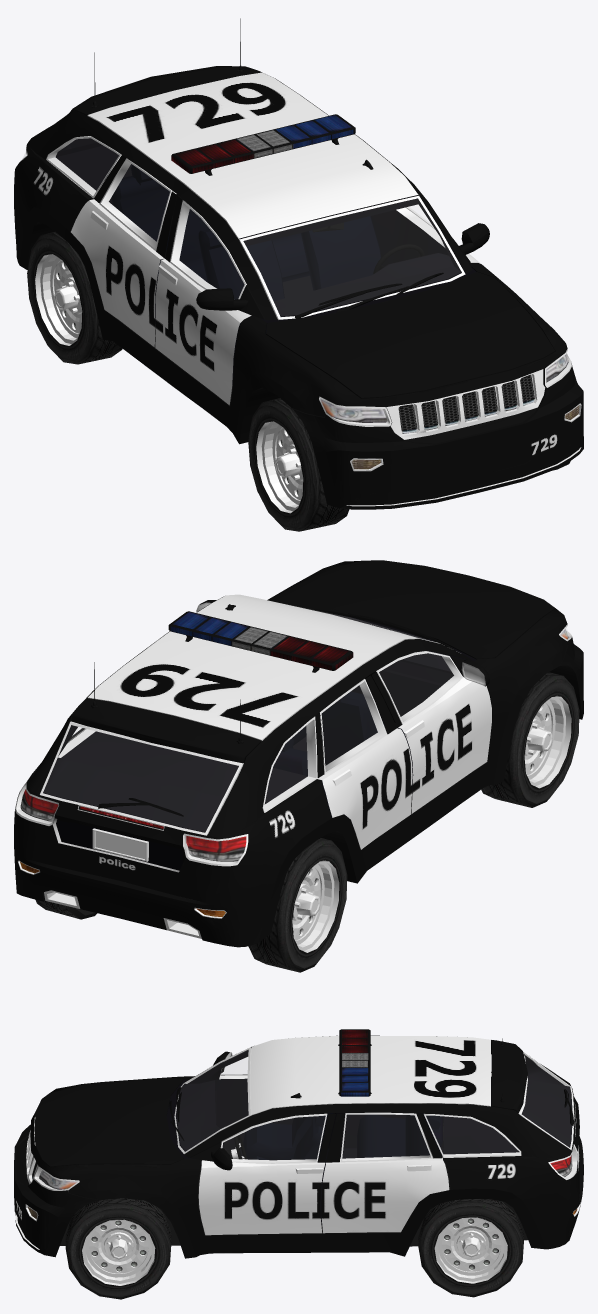
File: PoliceCar4.FBX
The picture shows the model from 3 angles, top to bottom: view 1: azimuth 30°, elevation 25°; view 2: azimuth 150°, elevation 25°; view 3: azimuth 270°, elevation 25°; orthographic projection. The views are drawn at different scales.
Parts seen in each view (by area): view 1: Body, FrontRight, BackRight; view 2: Body, BackRight, FrontRight, BackLeft; view 3: Body, FrontLeft, BackLeft.
Boxes of the visible parts, x1,y1,x2,y2 form: Body: (14, 18, 583, 509); FrontRight: (248, 398, 349, 531); BackRight: (27, 231, 122, 364); Body: (14, 560, 583, 947); BackRight: (248, 838, 347, 972); FrontRight: (481, 672, 579, 807); BackLeft: (35, 899, 96, 919); Body: (14, 1029, 583, 1258); FrontLeft: (65, 1198, 171, 1299); BackLeft: (418, 1199, 523, 1297).
Size of the model in its own units: 1.96 by 1.86 by 4.29.
